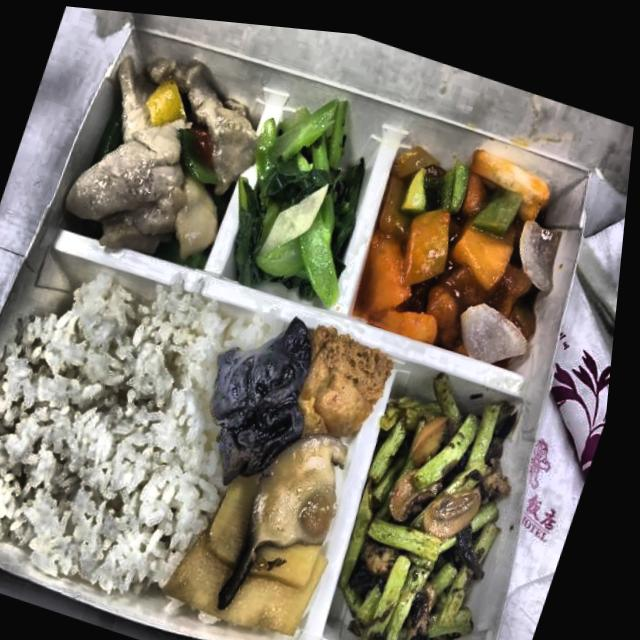Food: (0, 246, 278, 616)
